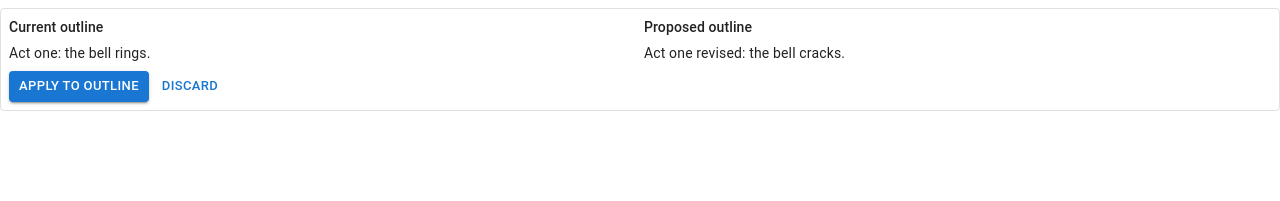
Test: OutlineRevision › a failed undo shows a reference
The width and height of the screenshot is (1280, 201).
Click the button "Apply to outline": (79, 86) x1=9 y1=71 x2=149 y2=102
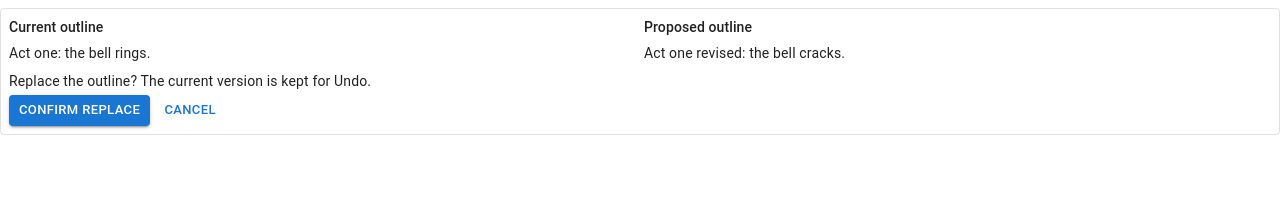
Click the button "Confirm replace": (80, 110) x1=9 y1=95 x2=150 y2=126
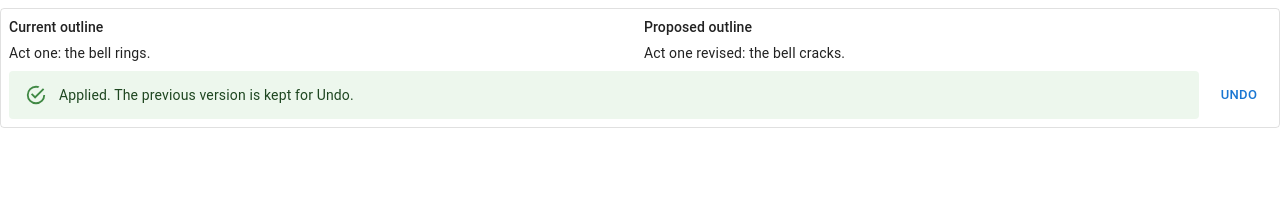
Click the button "Undo": (1239, 95) x1=1207 y1=80 x2=1271 y2=110
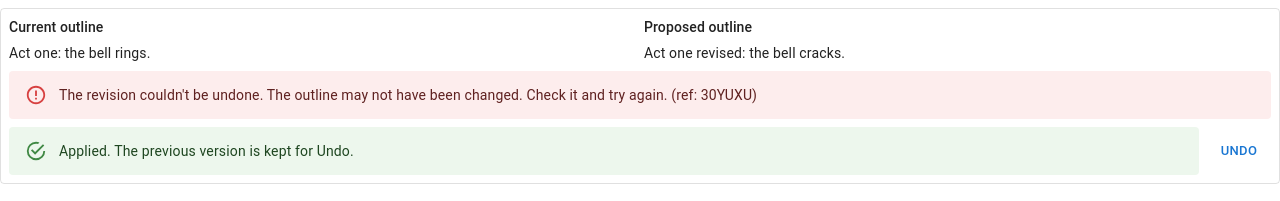
Now the text "couldn't be undone" is shown, box x1=59 y1=87 x2=757 y2=103
